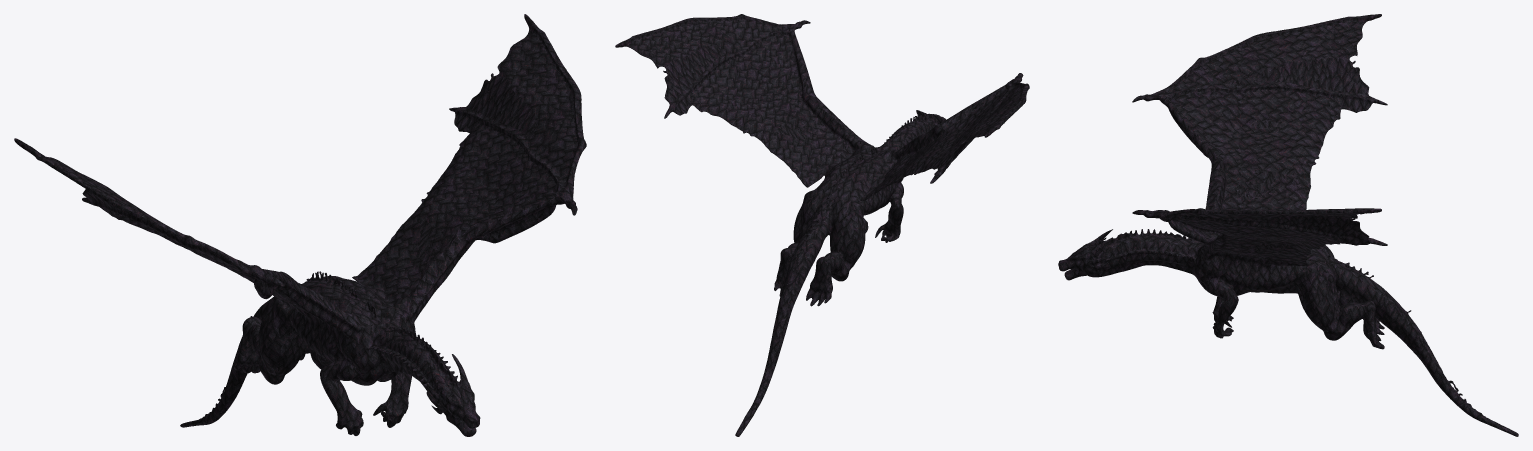
File: obsidian_wyvern_textured.glb
The picture shows the model from 3 angles, left to right: view 1: azimuth 30°, elevation 25°; view 2: azimuth 150°, elevation 25°; view 3: azimuth 270°, elevation 25°; orthographic projection. The views are drawn at different scales.
Visible parts, largest first — view 1: mesh_node; view 2: mesh_node; view 3: mesh_node.
Boxes of the visible parts, box(x1,y1,x2,y2) form: mesh_node: box(14, 14, 586, 436); mesh_node: box(615, 14, 1029, 436); mesh_node: box(1058, 14, 1518, 436).
Size of the model in its own units: 1.9 by 1.47 by 1.89.
1 material, 1 textured.
